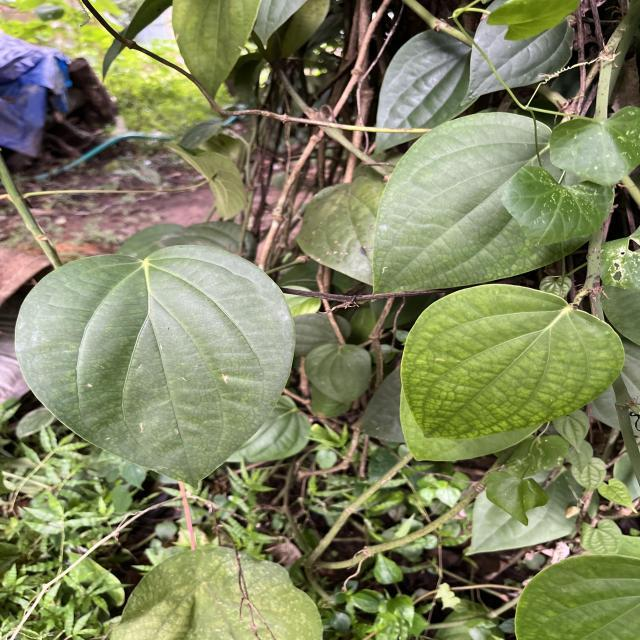Piper nigrum: (14, 244, 298, 492), (398, 283, 626, 441)
